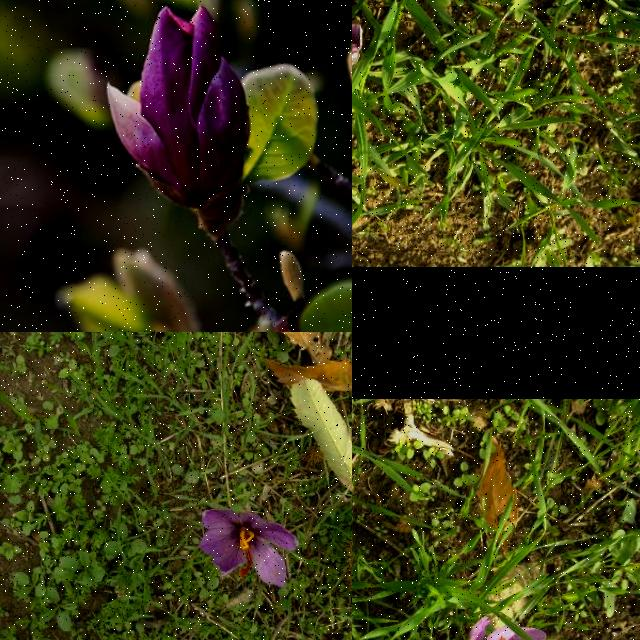flower: (198, 509, 300, 589), (459, 617, 550, 640), (352, 23, 364, 68)
